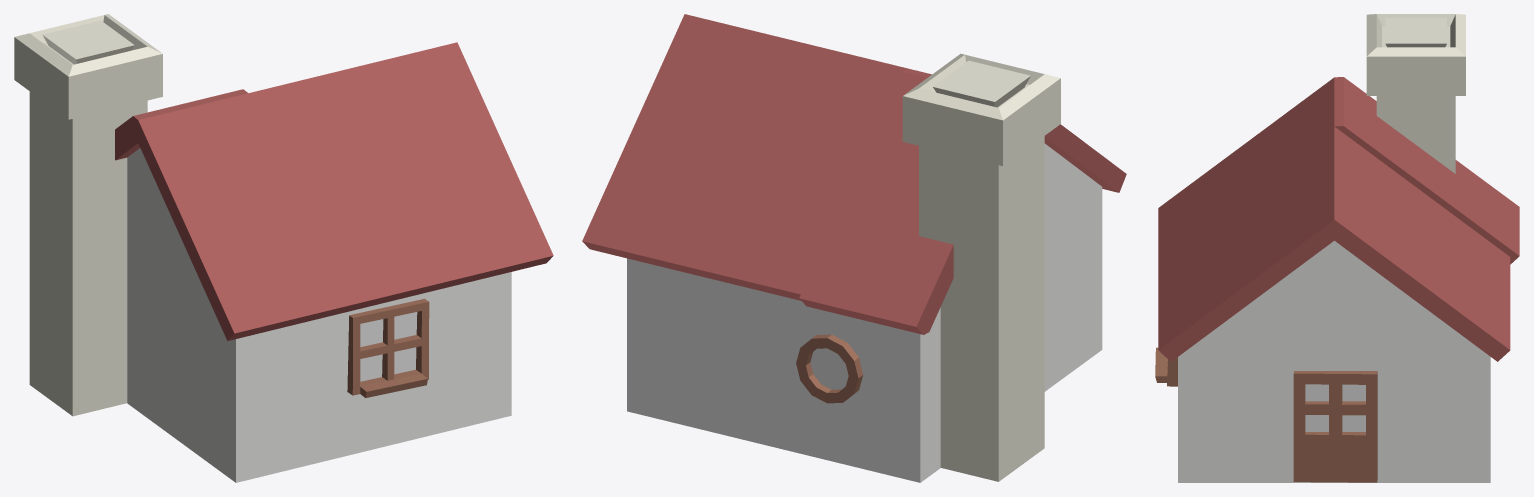
Rendered from house2.fbx.
3 views of the same model, side by side, from view 1: azimuth 30°, elevation 25°; view 2: azimuth 150°, elevation 25°; view 3: azimuth 270°, elevation 25° (orthographic). The views are drawn at different scales.
Visible parts, largest first — view 1: Roof, Base, Chimney, Deco; view 2: Roof, Base, Chimney, Deco; view 3: Roof, Base, Chimney, Deco.
Boxes of the visible parts, x1,y1,x2,y2 form: Roof: (115,42,553,340); Base: (127,148,511,482); Chimney: (14,14,162,416); Deco: (347,298,429,397); Roof: (582,14,1126,334); Base: (627,143,1102,482); Chimney: (902,53,1060,481); Deco: (796,334,862,403); Roof: (1158,77,1519,361); Base: (1178,240,1490,482); Chimney: (1366,14,1465,173); Deco: (1155,347,1377,482).
Bounding box in the file's own units: 4891 × 4430 × 4551.
